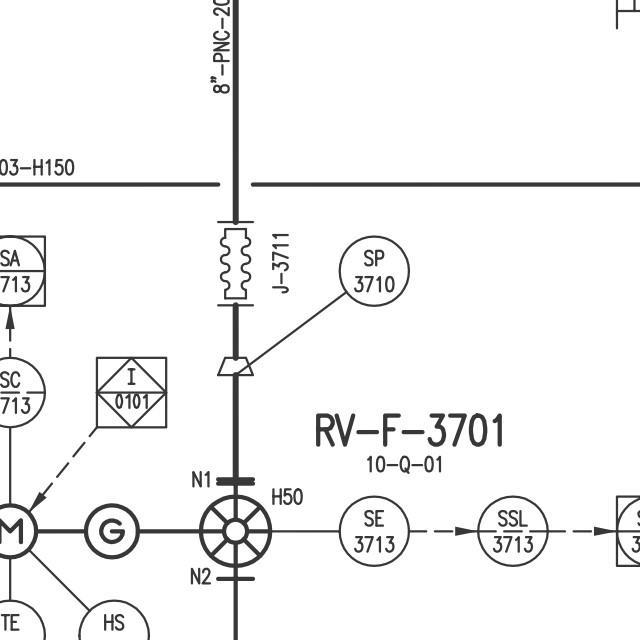EJ: (213, 212, 258, 313)
RV1: (195, 495, 274, 572)
SP: (213, 347, 261, 382)
